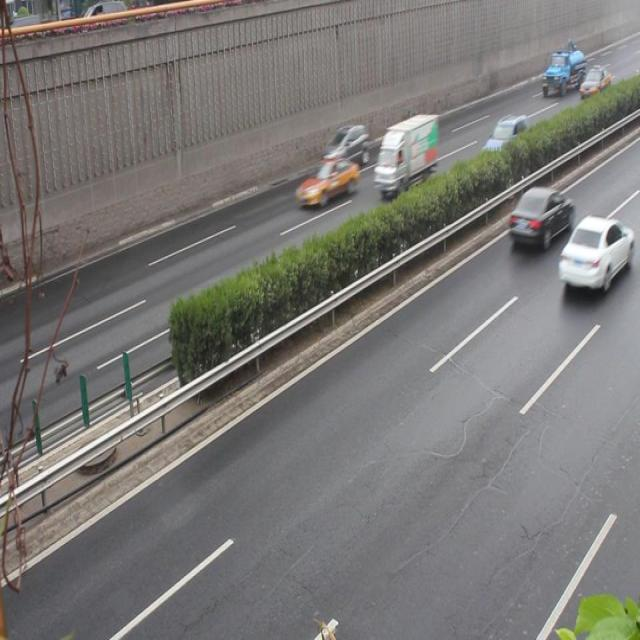car: (556, 213, 625, 290), (506, 182, 569, 249), (294, 154, 357, 209), (478, 113, 530, 166), (321, 122, 368, 166), (577, 64, 608, 98)
